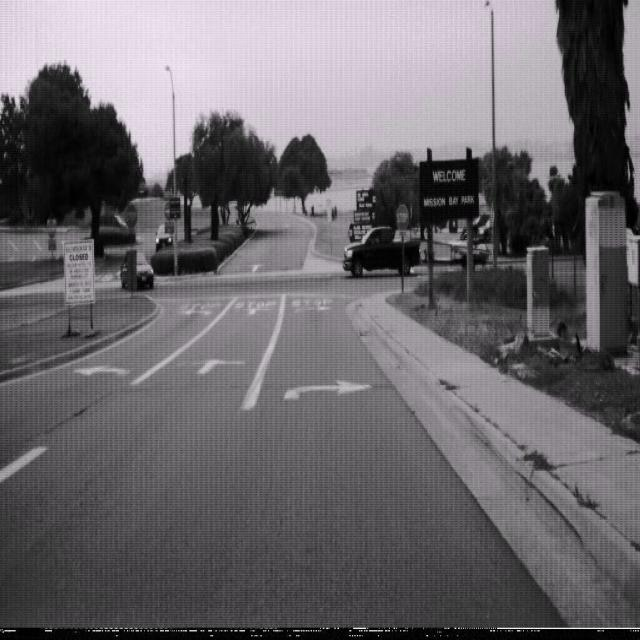stop_sign: (123, 201, 138, 231), (395, 202, 409, 233)
